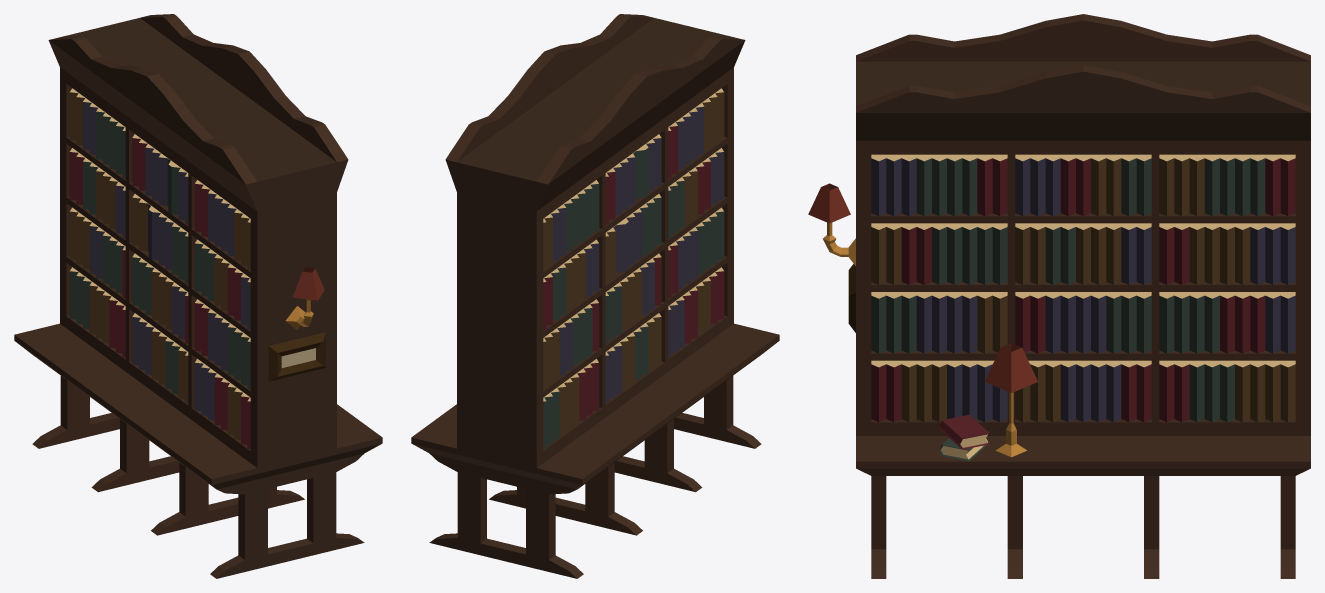
File: bookcase.fbx
3 views of the same model, side by side, from view 1: azimuth 30°, elevation 25°; view 2: azimuth 150°, elevation 25°; view 3: azimuth 270°, elevation 25° (orthographic). The views are drawn at different scales.
Visible parts, largest first — view 1: Bookcase, Bookcase_Books, Plaque, Lamp2; view 2: Bookcase, Bookcase_Books; view 3: Bookcase, Bookcase_Books, Lamp1, Lamp2, Cube.001.
Part boxes in pixels (left/top/right/bottom): Bookcase: left=14, top=14, right=382, bottom=578; Bookcase_Books: left=69, top=88, right=250, bottom=449; Plaque: left=268, top=332, right=325, bottom=381; Lamp2: left=285, top=267, right=324, bottom=330; Bookcase: left=411, top=14, right=779, bottom=578; Bookcase_Books: left=543, top=88, right=724, bottom=449; Bookcase: left=856, top=14, right=1310, bottom=578; Bookcase_Books: left=871, top=154, right=1295, bottom=422; Lamp1: left=985, top=343, right=1037, bottom=457; Lamp2: left=808, top=183, right=855, bottom=265; Cube.001: left=939, top=415, right=989, bottom=449.
Bounding box in the file's own units: 300 × 720 × 663.
